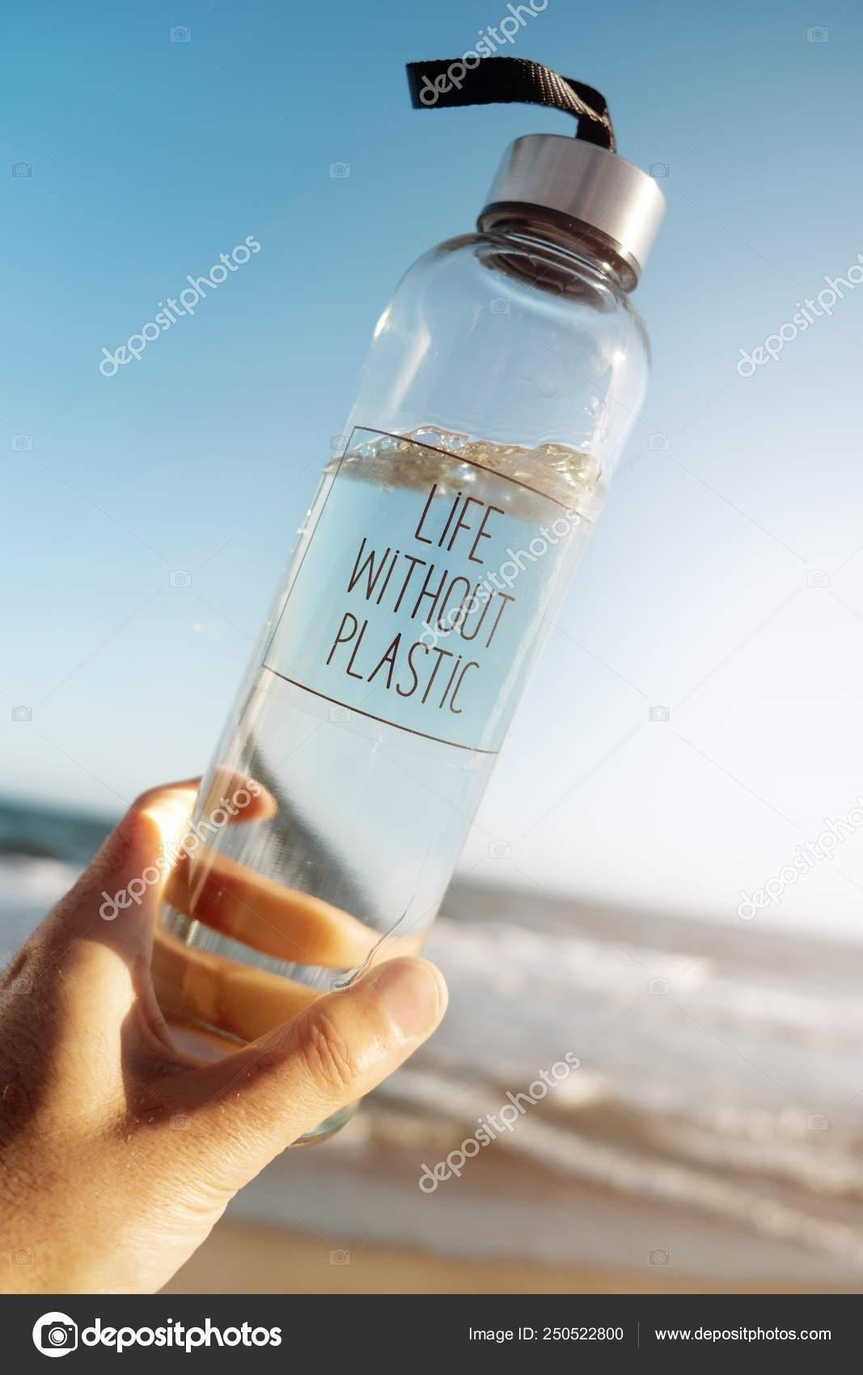gym bottle: (144, 135, 661, 1045)
